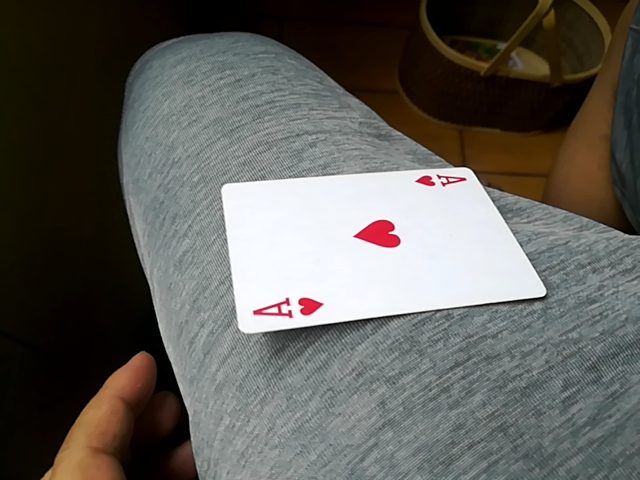hx a: (223, 164, 544, 334)
